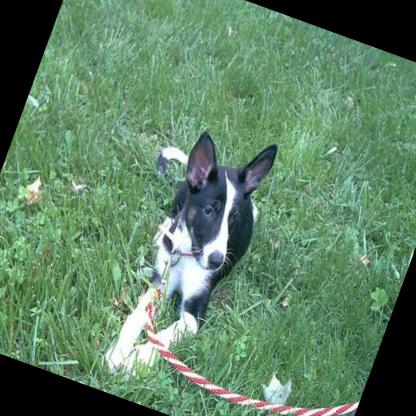basenji: (86, 108, 282, 395)
